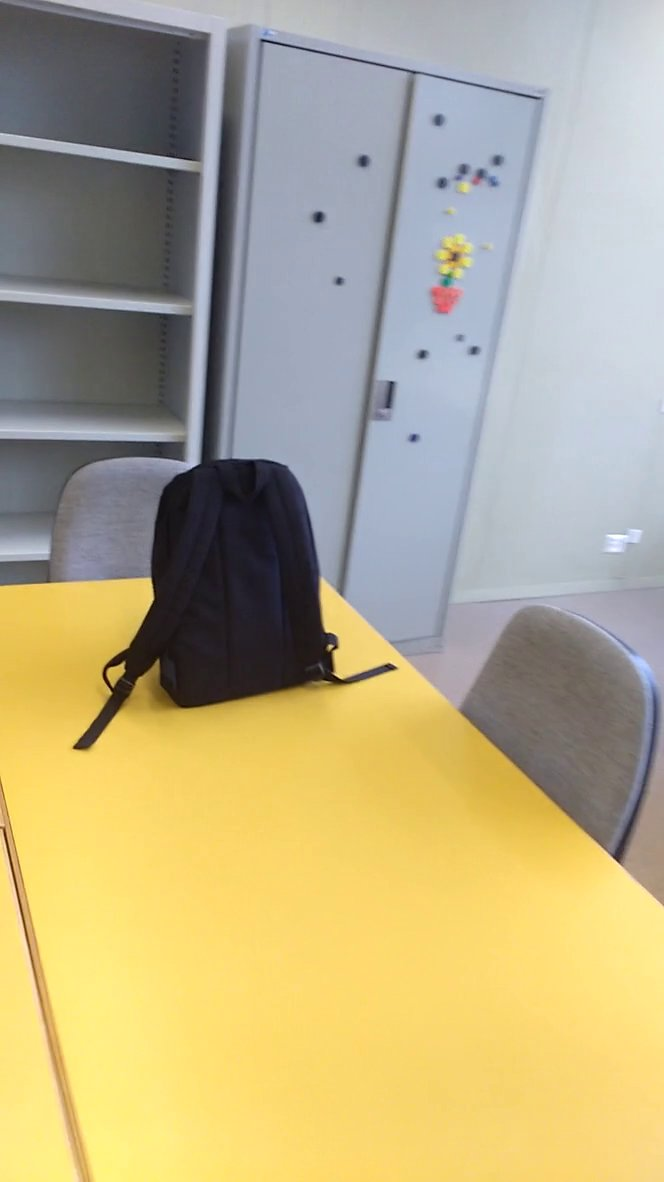bag: (71, 447, 408, 756)
chair: (438, 590, 664, 894), (32, 447, 199, 613)
